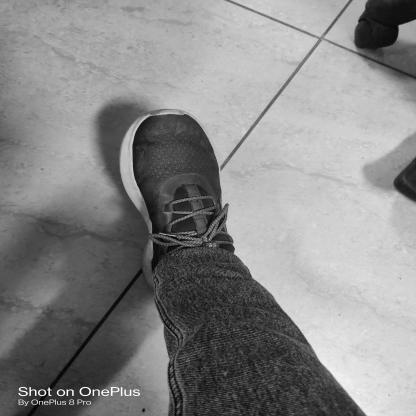ankle: (160, 257, 169, 263)
heel: (149, 281, 154, 285)
pinky: (190, 123, 198, 130)
right_foot: (121, 110, 237, 289)
toe: (141, 128, 151, 134)
